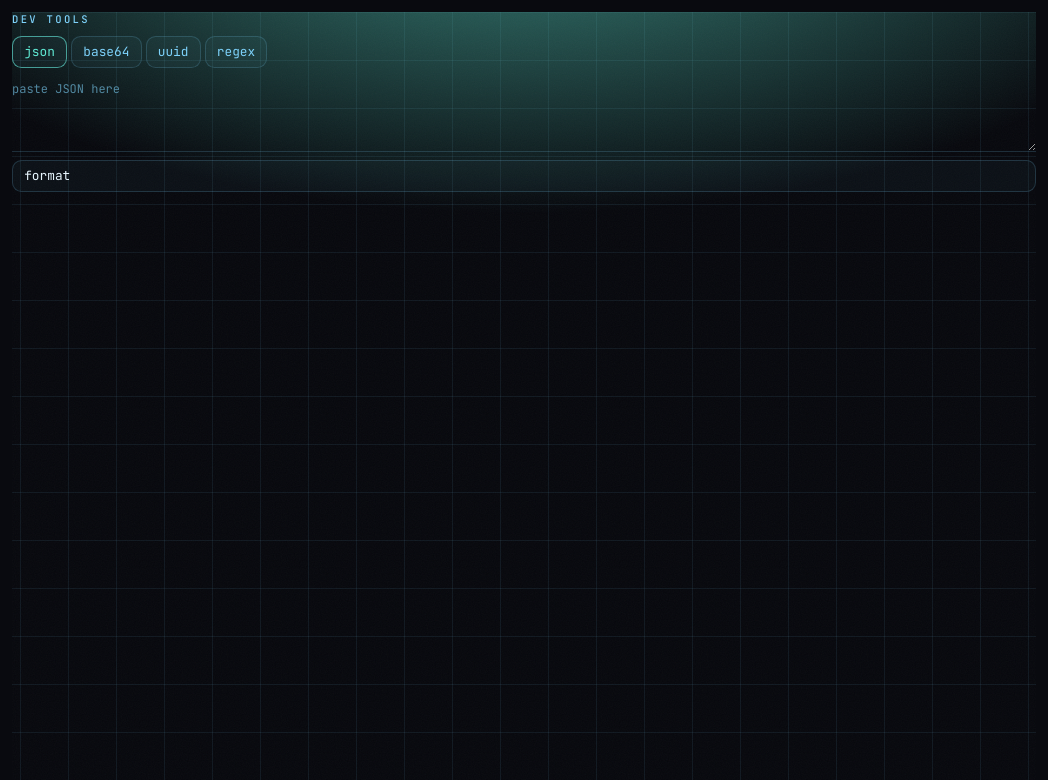
Test: DevToolsWidget › T-WDGT-09c: Base64 encode/decode round-trip (including non-ASCII)
The width and height of the screenshot is (1048, 780).
Click the button "base64": (106, 52) [71, 36, 142, 68]
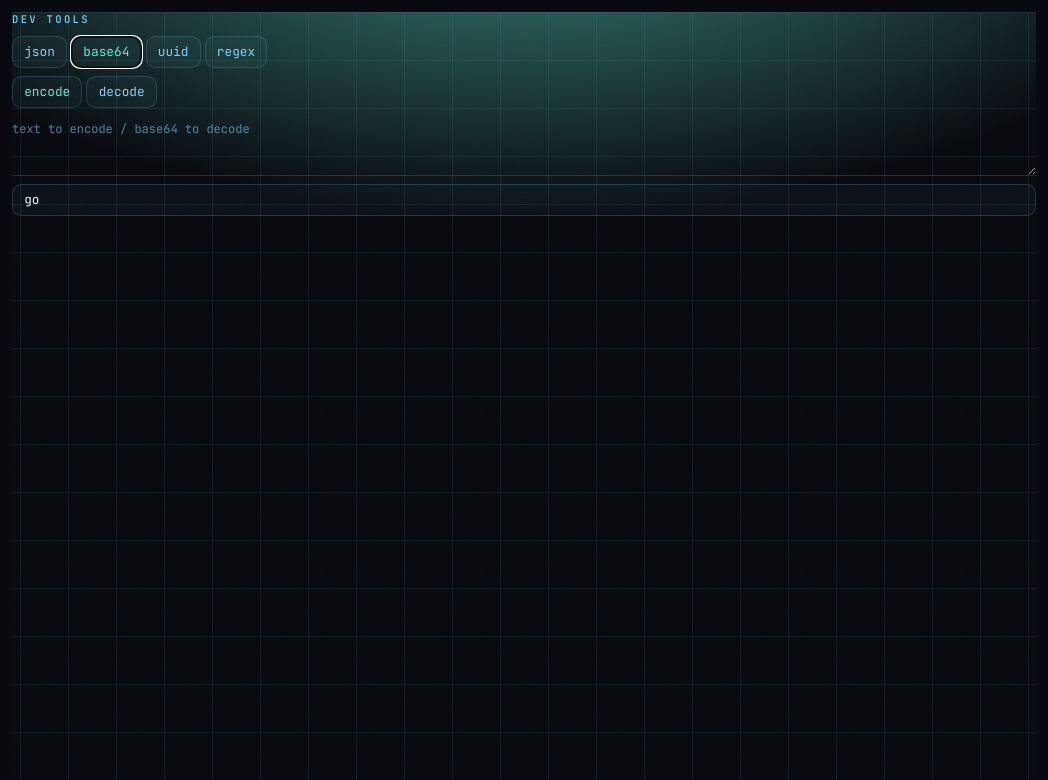
In the text box with placeholder "text to encode / base64 to decode": (524, 146) [12, 116, 1036, 176], type "hello"
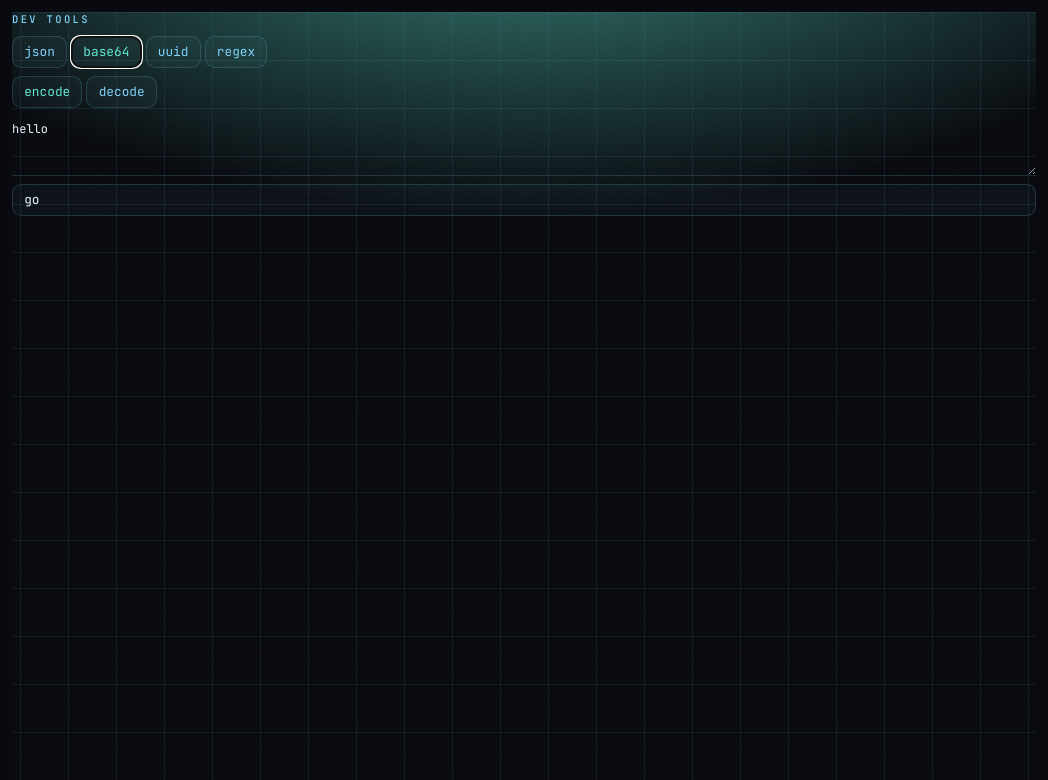
Click the button "go": (32, 200) [12, 184, 1036, 216]
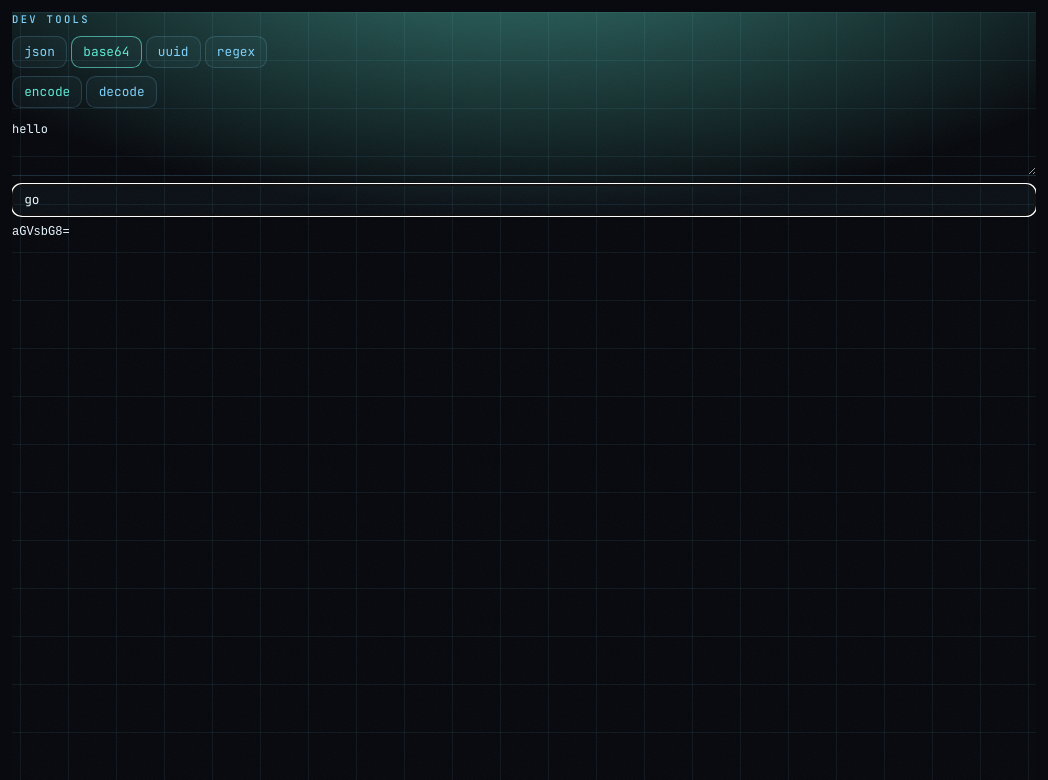
Now the text "aGVsbG8=" is shown, box [12, 224, 70, 238]
